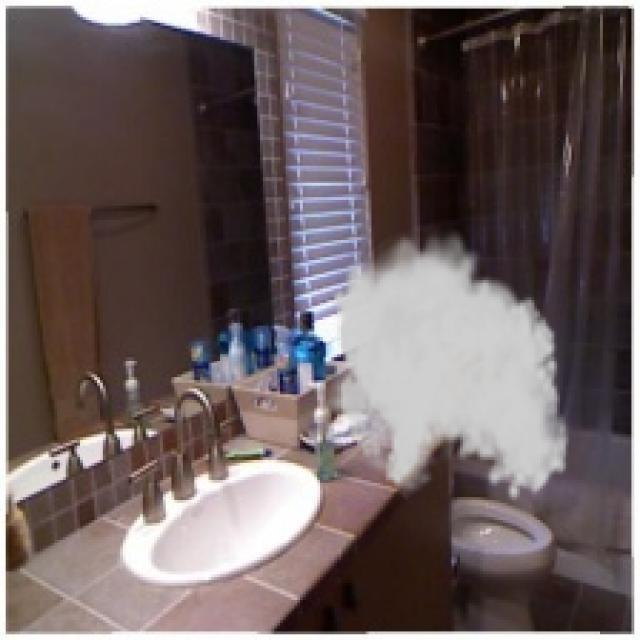Smoke: (317, 223, 572, 503)
